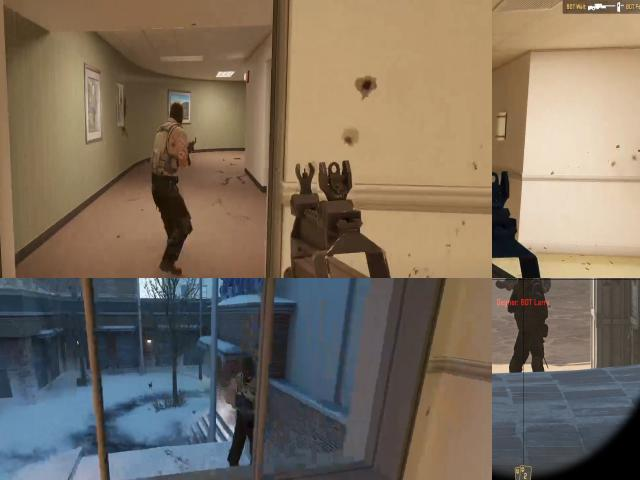CT: (511, 278, 543, 369)
CT-Head: (517, 278, 532, 288)
Dead: (500, 278, 552, 287)
T: (143, 105, 191, 189), (230, 347, 260, 430)
T-Head: (164, 99, 188, 127), (236, 355, 260, 381)
